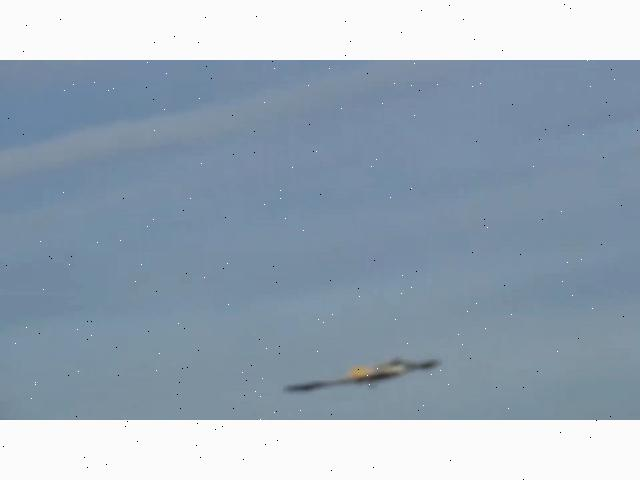Anti-Drone: (284, 361, 440, 394)
